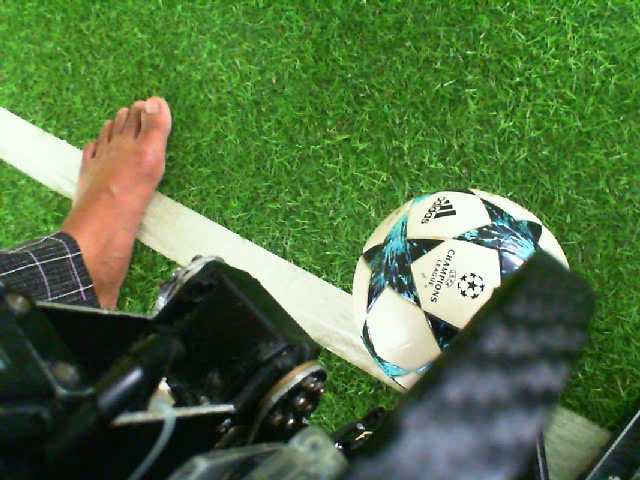ball: (348, 186, 572, 392)
